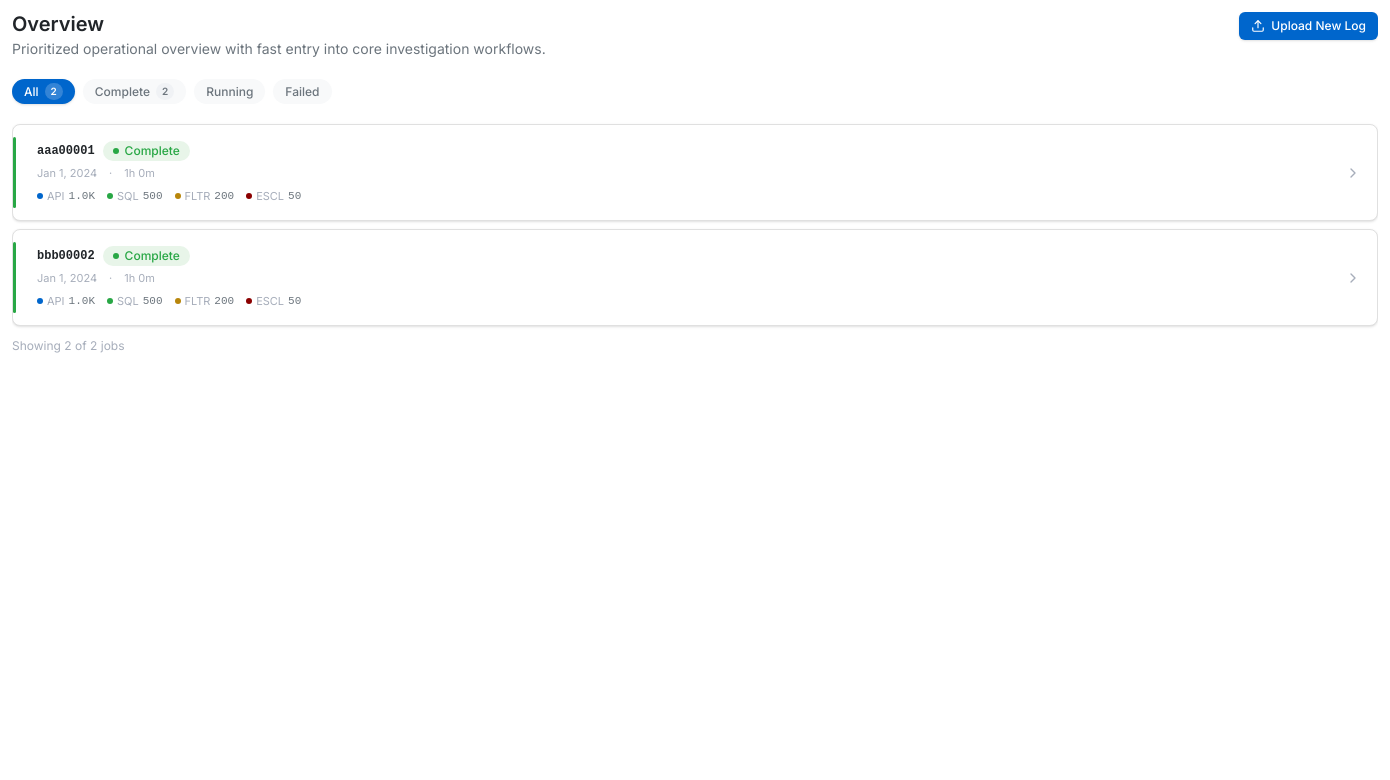
AnalysisListPage › collapses previously expanded card when another is clicked
Click the button with aria-label "analysis job": [66, 151] box [13, 125, 1377, 220]
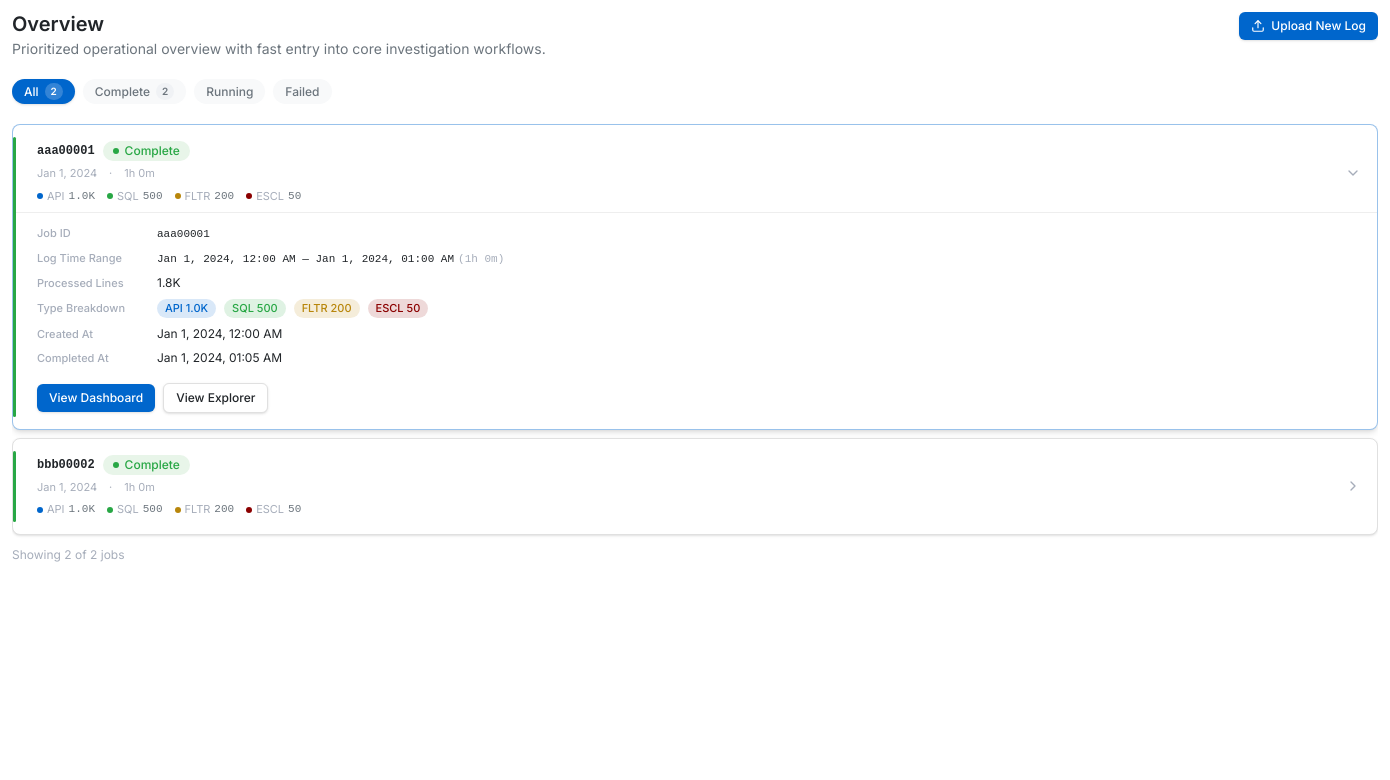
Check: the button with aria-label "analysis job" is expanded, box [13, 125, 1377, 212]
Click the button with aria-label "analysis job": [66, 465] box [13, 439, 1377, 534]
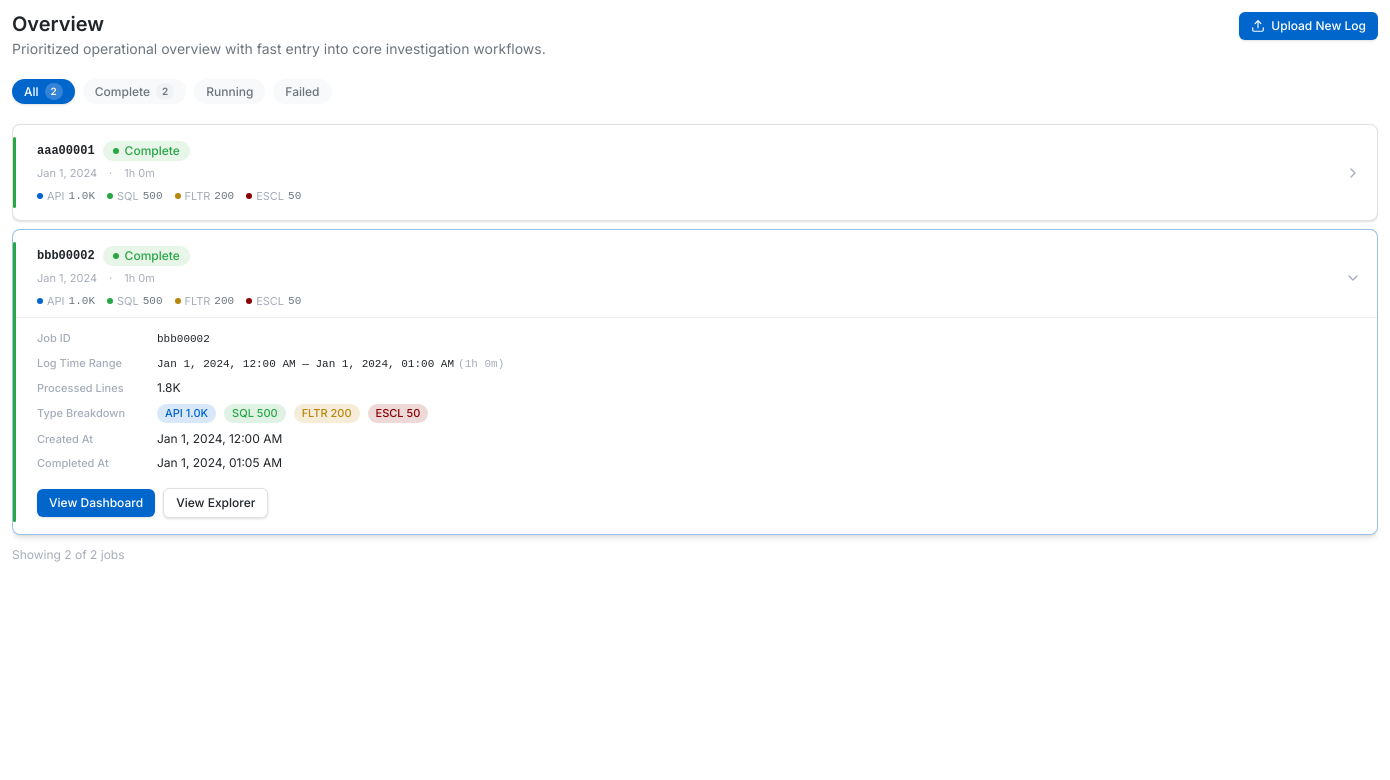
Check: the button with aria-label "analysis job" is collapsed, box [13, 125, 1377, 220]
Check: the button with aria-label "analysis job" is expanded, box [13, 230, 1377, 317]
